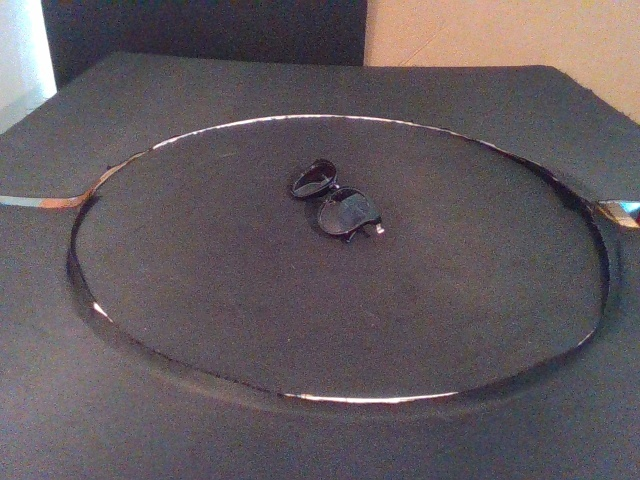glasses: (287, 157, 386, 245)
